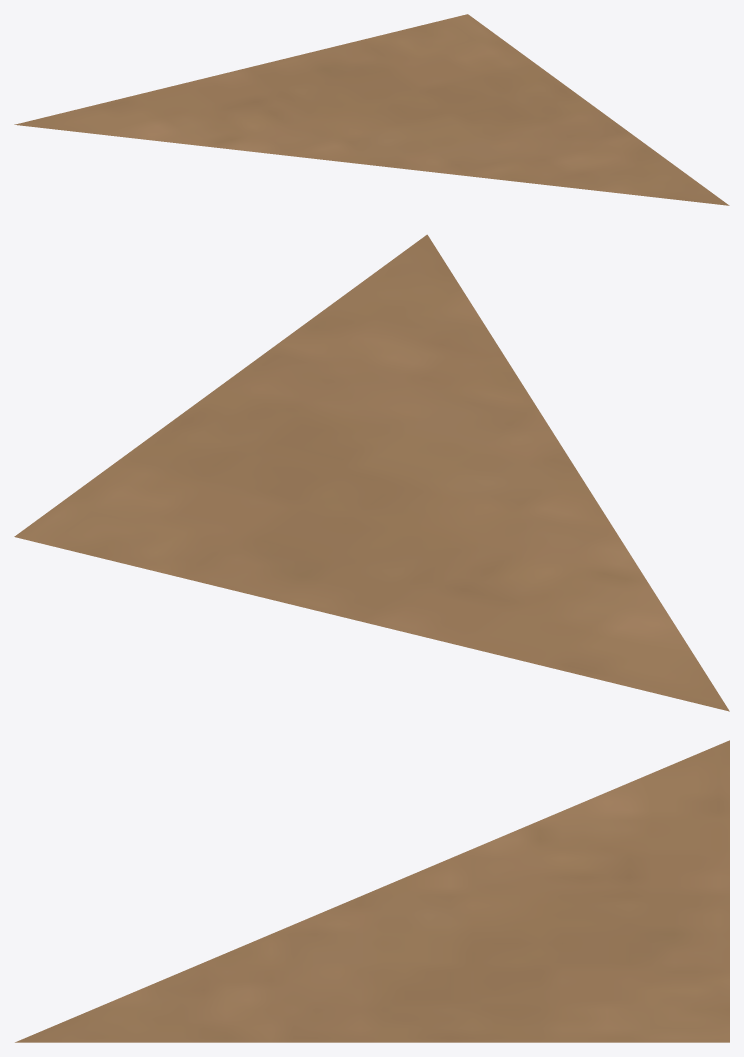
The model's file is objects_un_c01square01_hicol.gltf.
3 renders of one model, top to bottom at view 1: azimuth 30°, elevation 25°; view 2: azimuth 150°, elevation 25°; view 3: azimuth 270°, elevation 25°, orthographic. The views are drawn at different scales.
Parts seen in each view (by area): view 1: objects_un_c01square01_hicol_mesh_shape:objects_un_c01square; view 2: objects_un_c01square01_hicol_mesh_shape:objects_un_c01square; view 3: objects_un_c01square01_hicol_mesh_shape:objects_un_c01square.
Part boxes in pixels (box(x1,y1,x2,y2)): objects_un_c01square01_hicol_mesh_shape:objects_un_c01square: box(14, 14, 729, 205); objects_un_c01square01_hicol_mesh_shape:objects_un_c01square: box(14, 234, 729, 711); objects_un_c01square01_hicol_mesh_shape:objects_un_c01square: box(15, 740, 729, 1042).
Bounding box in the file's own units: 1 × 0 × 1.
Materials: 1 (1 with a texture image).
